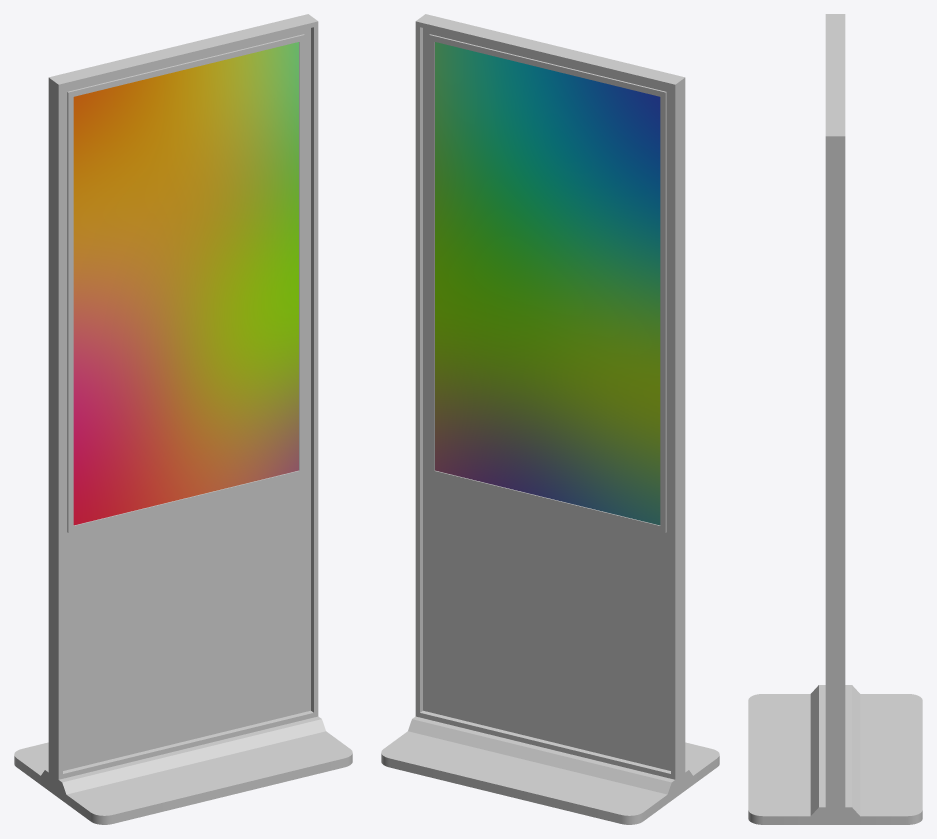
The model's file is digital_information_kiosk_01_medium.fbx.
3 renders of one model, left to right at view 1: azimuth 30°, elevation 25°; view 2: azimuth 150°, elevation 25°; view 3: azimuth 270°, elevation 25°, orthographic. The views are drawn at different scales.
Visible parts, largest first — view 1: digital_information_kiosk_01_medium; view 2: digital_information_kiosk_01_medium; view 3: digital_information_kiosk_01_medium.
Boxes of the visible parts, x1,y1,x2,y2 form: digital_information_kiosk_01_medium: [14, 14, 352, 824]; digital_information_kiosk_01_medium: [381, 14, 719, 824]; digital_information_kiosk_01_medium: [748, 14, 922, 824].
Size of the model in its own units: 74.7 by 196 by 45.
